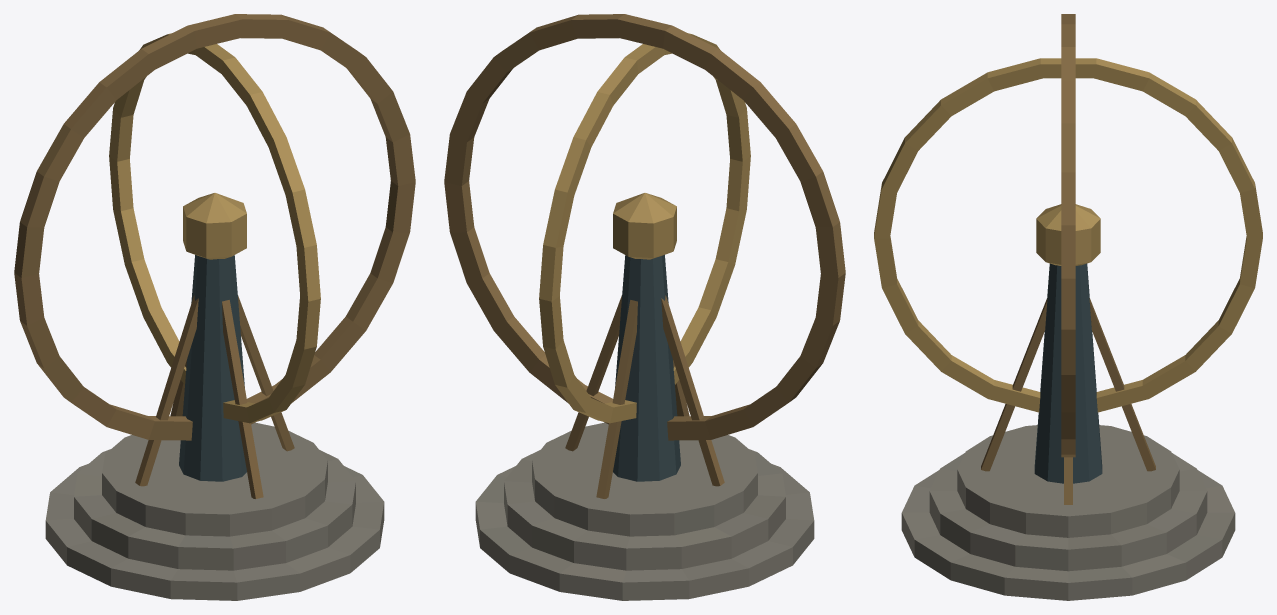
Rendered from Building_Landmark_Armillary_001_LOD1.glb.
3 renders of one model, left to right at view 1: azimuth 30°, elevation 25°; view 2: azimuth 150°, elevation 25°; view 3: azimuth 270°, elevation 25°, orthographic. The views are drawn at different scales.
Visible parts, largest first — view 1: Building_Landmark_Armillary_001_LOD1; view 2: Building_Landmark_Armillary_001_LOD1; view 3: Building_Landmark_Armillary_001_LOD1.
Boxes of the visible parts, left/top/right/bottom form: Building_Landmark_Armillary_001_LOD1: left=14, top=14, right=415, bottom=600; Building_Landmark_Armillary_001_LOD1: left=444, top=14, right=845, bottom=600; Building_Landmark_Armillary_001_LOD1: left=874, top=14, right=1262, bottom=600.
Size of the model in its own units: 5.6 by 6.88 by 4.9.
